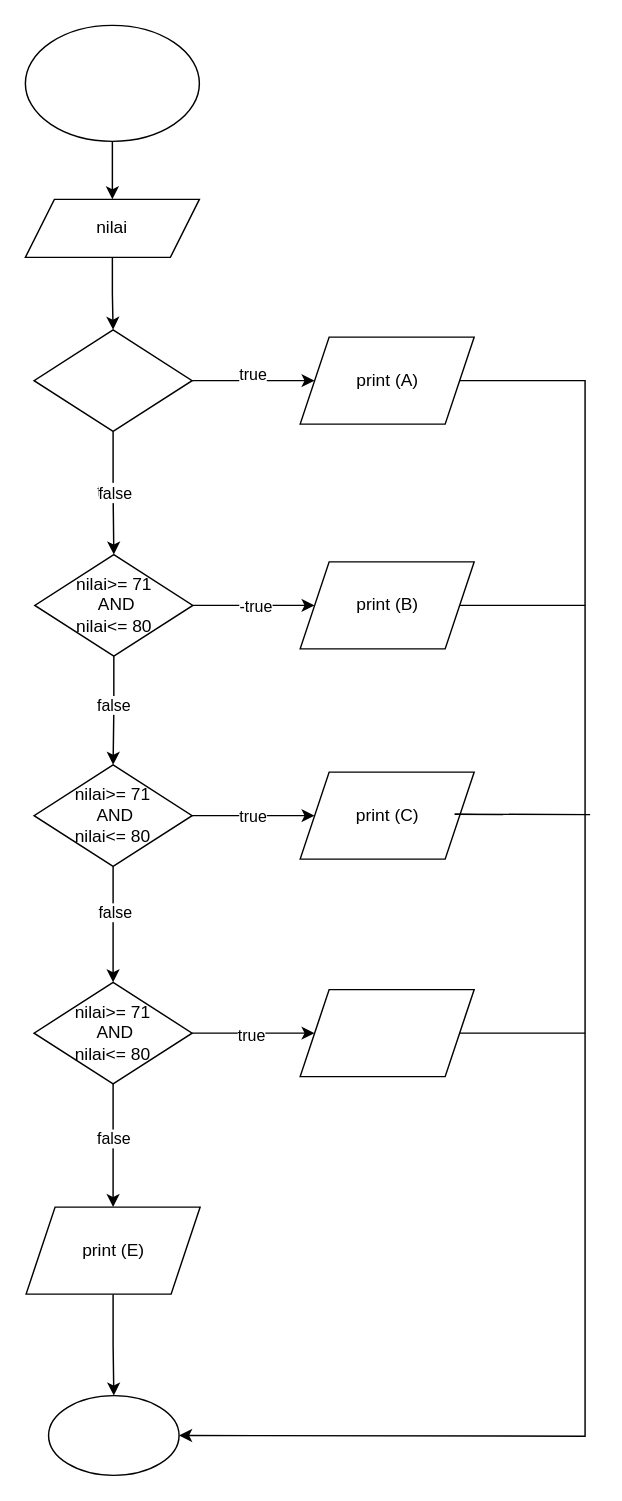
The diagram is 622 pixels wide and 1501 high, and some of its shapes have lost their labels. Each missing label, with the centre of its shape:
"mulai" goes at (x=111, y=82).
"nilai>= 81 AND nilai<= 100" goes at (x=112, y=379).
"print (D)" goes at (x=386, y=1032).
"selesai" goes at (x=113, y=1434).
